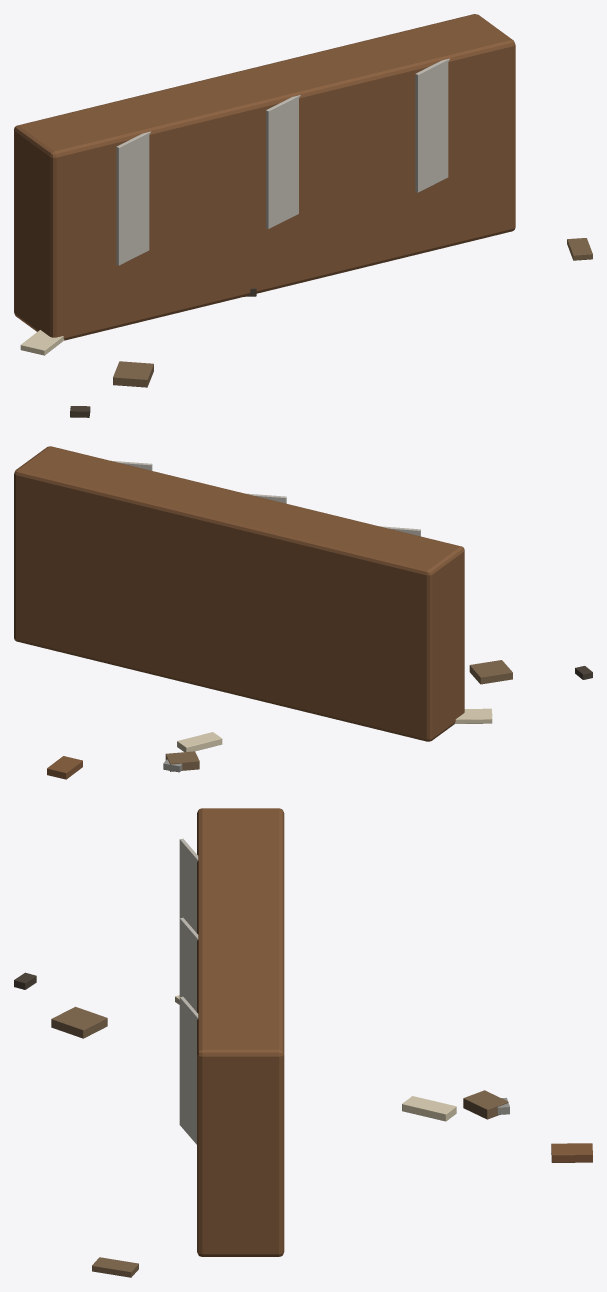
The model's file is dz_barricade_construction_premium.glb.
3 views of the same model, one above another, from view 1: azimuth 30°, elevation 25°; view 2: azimuth 150°, elevation 25°; view 3: azimuth 270°, elevation 25° (orthographic). The views are drawn at different scales.
Parts seen in each view (by area): view 1: orange_construction_barrier, white_reflective_stripe_-0.9, white_reflective_stripe_0.9, white_reflective_stripe_0, construction_debris_03, construction_debris_05; view 2: orange_construction_barrier, construction_debris_03, construction_debris_08, construction_debris_07, construction_debris_05, construction_debris_04; view 3: orange_construction_barrier, white_reflective_stripe_0.9, white_reflective_stripe_-0.9, white_reflective_stripe_0, construction_debris_03, construction_debris_08, construction_debris_07, construction_debris_04, construction_debris_00.
Part boxes in pixels (bbox=[...]): orange_construction_barrier: bbox=[14, 14, 515, 340]; white_reflective_stripe_-0.9: bbox=[116, 131, 150, 265]; white_reflective_stripe_0.9: bbox=[415, 58, 449, 192]; white_reflective_stripe_0: bbox=[266, 95, 300, 228]; construction_debris_03: bbox=[113, 361, 153, 387]; construction_debris_05: bbox=[20, 330, 64, 355]; orange_construction_barrier: bbox=[14, 446, 464, 741]; construction_debris_03: bbox=[469, 660, 512, 684]; construction_debris_08: bbox=[177, 732, 222, 752]; construction_debris_07: bbox=[47, 756, 82, 779]; construction_debris_05: bbox=[454, 708, 492, 723]; construction_debris_04: bbox=[165, 751, 199, 771]; orange_construction_barrier: bbox=[197, 808, 284, 1256]; white_reflective_stripe_0.9: bbox=[179, 996, 198, 1144]; white_reflective_stripe_-0.9: bbox=[179, 838, 198, 932]; white_reflective_stripe_0: bbox=[179, 917, 198, 1011]; construction_debris_03: bbox=[51, 1006, 107, 1038]; construction_debris_08: bbox=[402, 1096, 456, 1121]; construction_debris_07: bbox=[551, 1143, 592, 1162]; construction_debris_04: bbox=[463, 1090, 508, 1119]; construction_debris_00: bbox=[92, 1257, 138, 1277].
Bounding box in the file's own units: 3.4 × 1.1 × 2.79.
